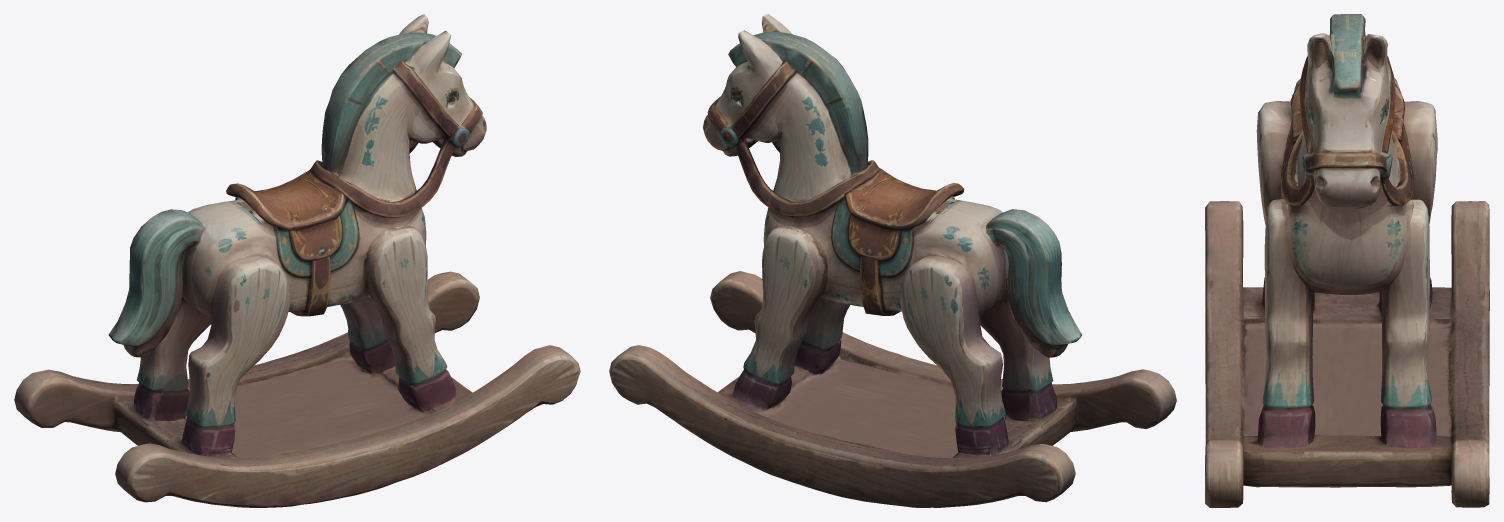
File: Prop_RockingHorse.fbx
The picture shows the model from 3 angles, left to right: view 1: azimuth 30°, elevation 25°; view 2: azimuth 150°, elevation 25°; view 3: azimuth 270°, elevation 25°; orthographic projection. The views are drawn at different scales.
Parts seen in each view (by area): view 1: texture_mapping; view 2: texture_mapping; view 3: texture_mapping.
Boxes of the visible parts, x1,y1,x2,y2 form: texture_mapping: [14, 14, 580, 507]; texture_mapping: [609, 14, 1176, 507]; texture_mapping: [1205, 14, 1489, 507].
Size of the model in its own units: 0.9979 by 0.4435 by 0.8352.
Materials: 1 (1 with a texture image).
